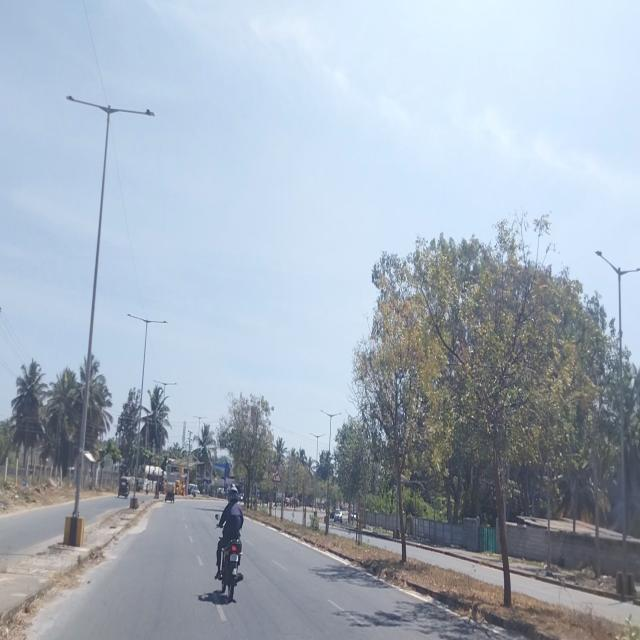bien_cam: (272, 466, 282, 484)
